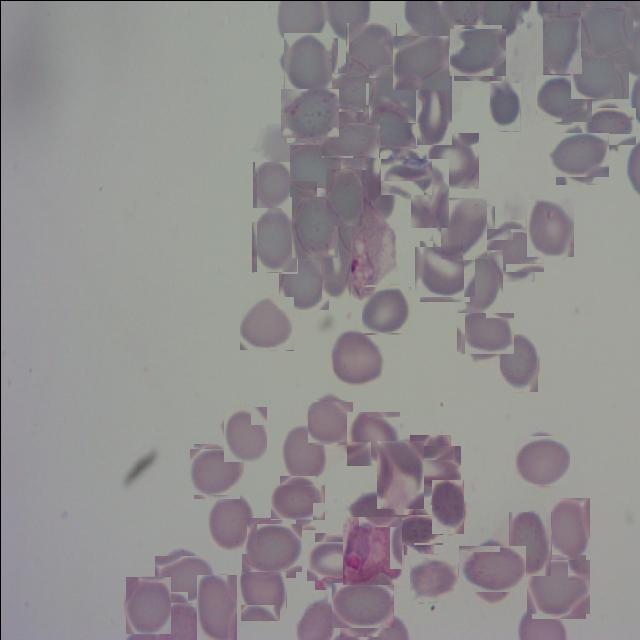difficult: (342, 516, 402, 585)
leukocyte: (528, 556, 588, 616), (463, 540, 520, 597), (376, 440, 423, 508), (368, 64, 423, 122), (416, 242, 472, 298), (392, 35, 448, 89), (278, 248, 328, 308), (251, 207, 297, 272), (291, 192, 337, 257), (243, 520, 298, 574), (280, 34, 334, 89), (335, 578, 389, 632), (346, 411, 400, 465), (572, 46, 626, 100), (436, 201, 490, 255), (240, 296, 294, 350), (282, 86, 336, 140), (426, 132, 478, 188), (334, 334, 384, 392), (456, 249, 502, 312), (486, 223, 539, 276), (516, 433, 568, 487), (345, 22, 396, 77), (508, 511, 551, 576), (157, 552, 210, 604), (404, 439, 456, 492), (208, 496, 256, 553), (545, 497, 589, 559), (281, 424, 328, 482), (526, 198, 573, 256), (552, 128, 604, 180), (451, 26, 503, 78), (289, 144, 341, 196), (580, 6, 632, 58), (240, 562, 286, 620), (125, 576, 171, 634), (414, 70, 450, 144), (190, 445, 242, 496), (196, 574, 236, 640), (410, 158, 448, 227), (538, 72, 588, 123), (542, 12, 582, 74), (223, 406, 267, 462), (459, 308, 508, 358), (364, 102, 413, 151), (310, 536, 358, 585), (362, 285, 410, 333), (410, 554, 458, 602), (326, 116, 374, 164), (499, 333, 537, 391), (321, 220, 350, 296), (585, 103, 631, 149), (325, 168, 361, 225), (274, 480, 319, 524), (308, 399, 352, 444), (252, 161, 294, 208), (384, 154, 428, 198), (332, 68, 374, 111), (431, 479, 463, 533), (398, 509, 438, 549), (489, 82, 520, 131)
